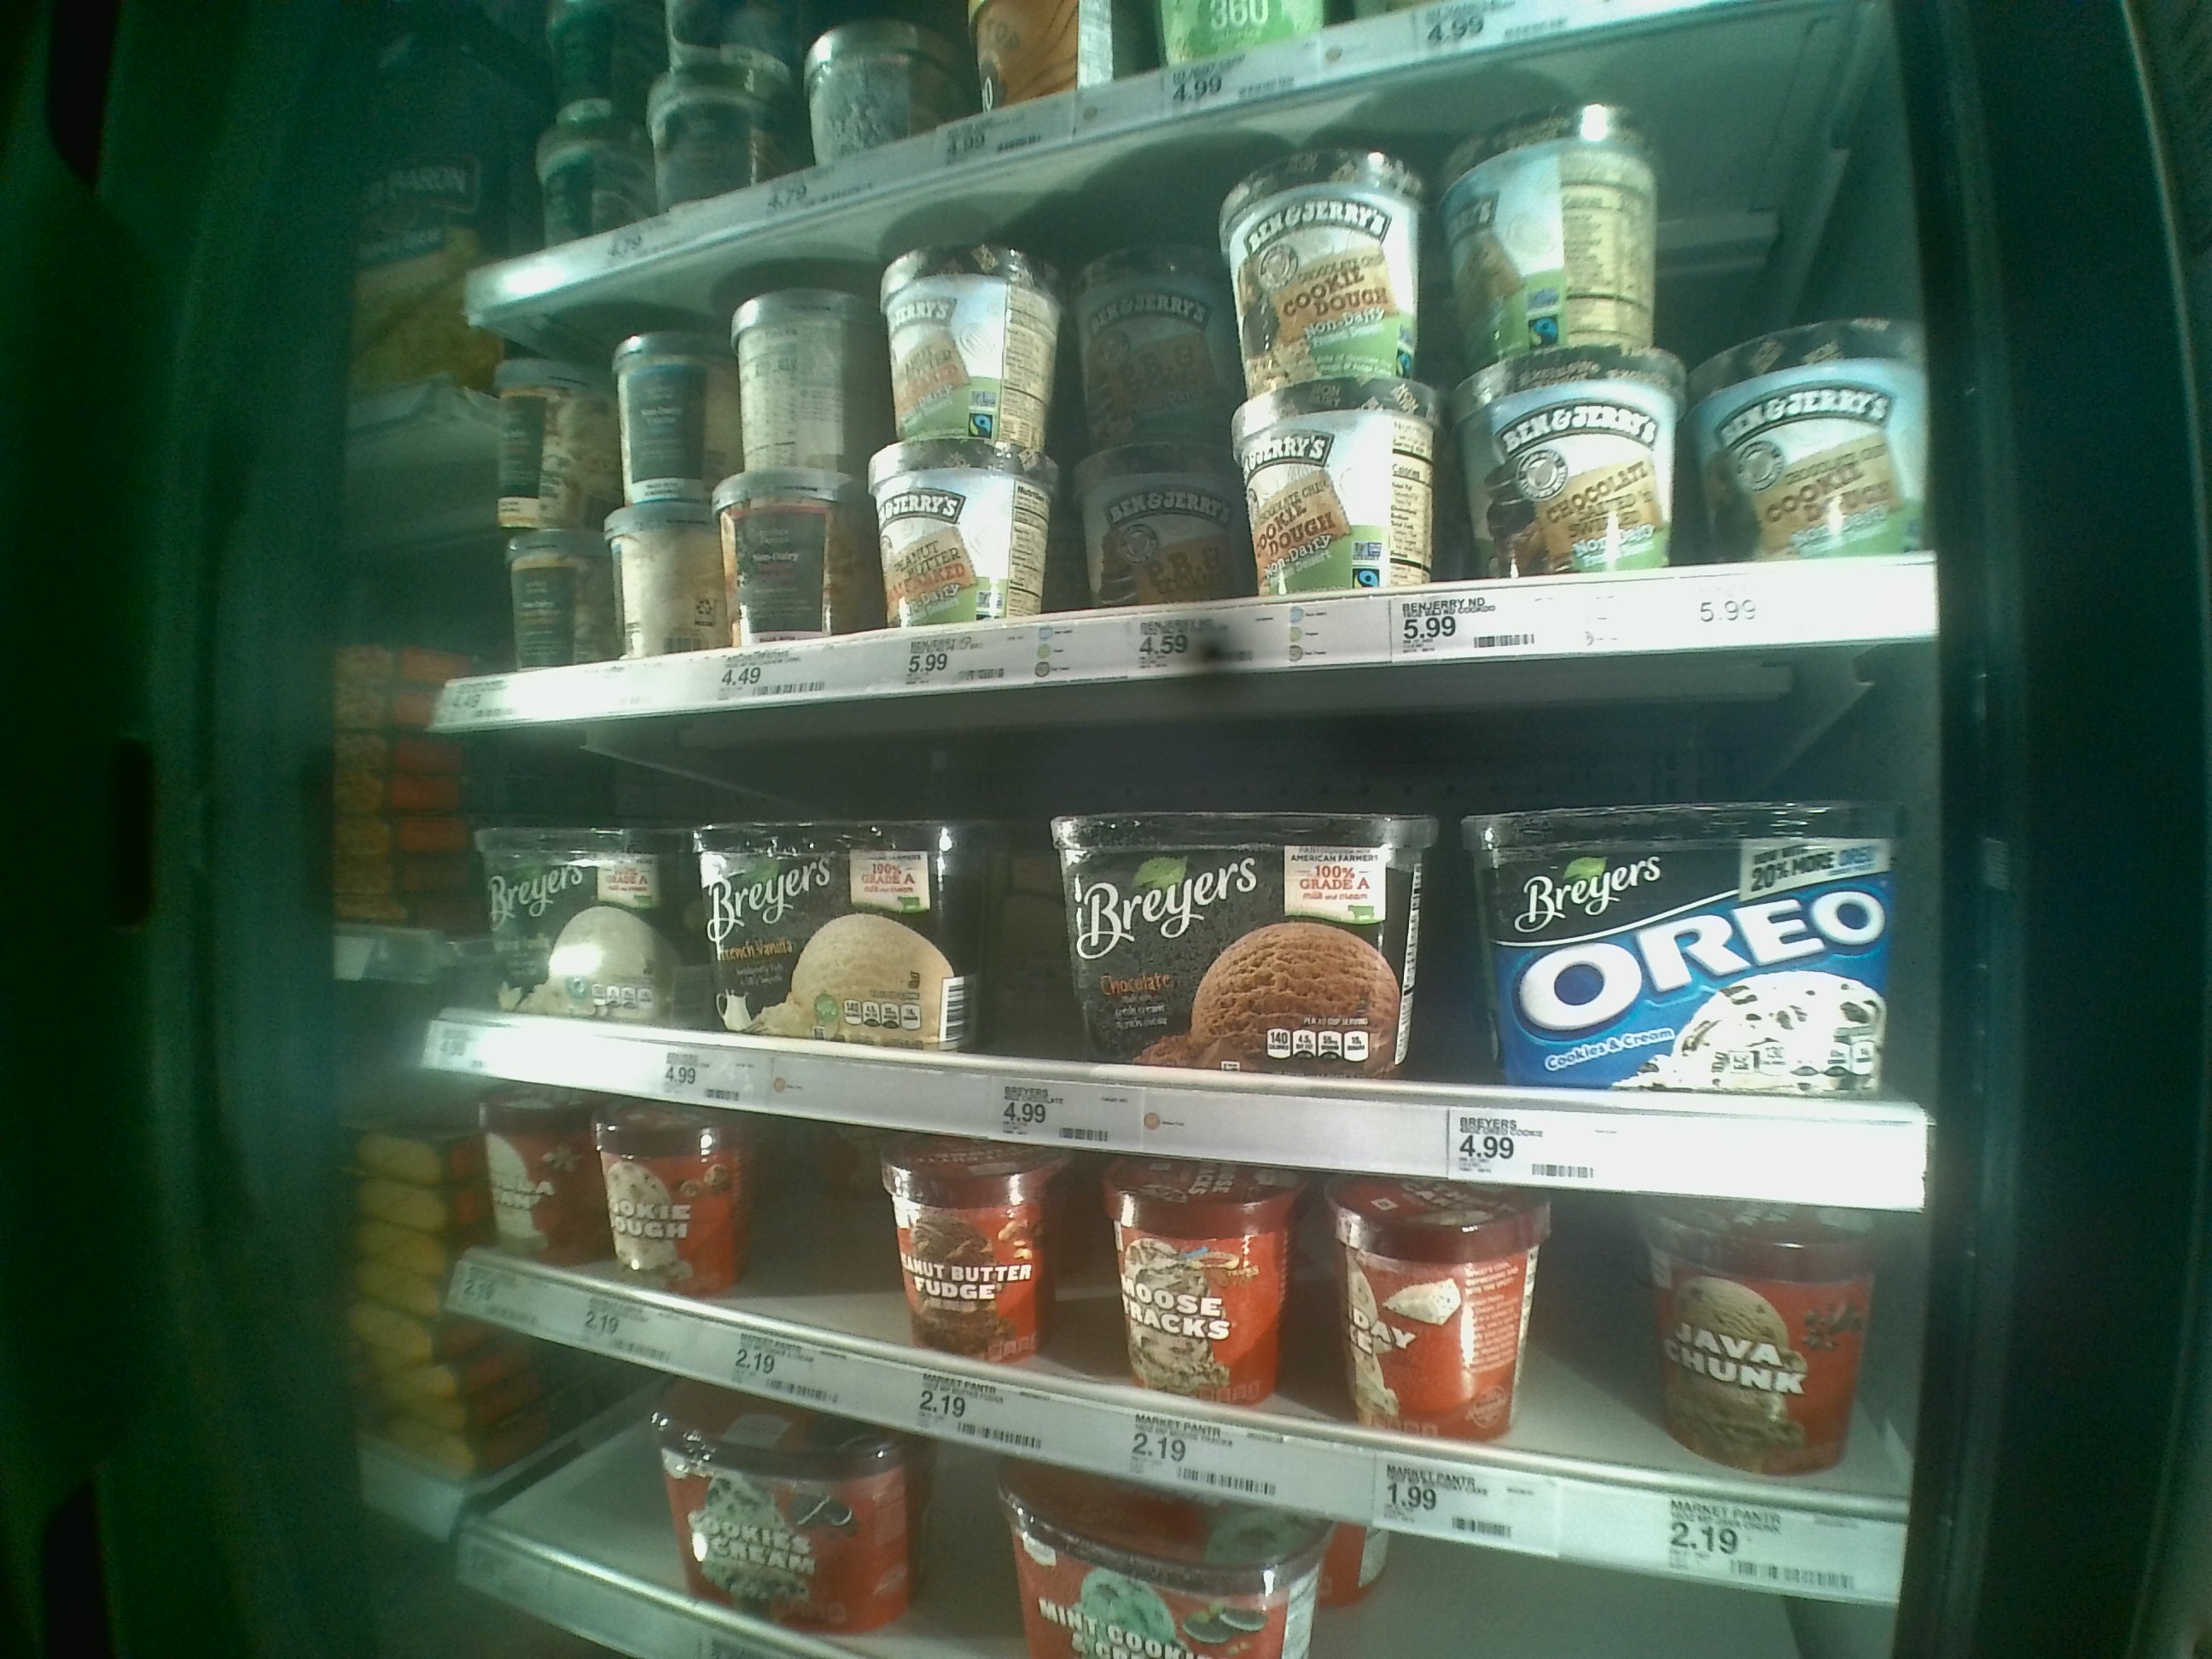shelf: (435, 633, 1942, 1223), (421, 1079, 1911, 1607)
